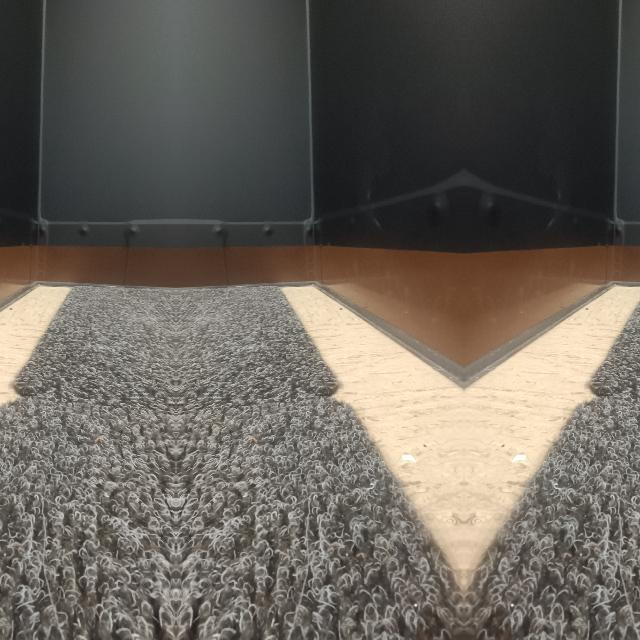obstacle: (175, 64, 318, 286), (32, 64, 175, 286), (608, 64, 640, 285)
